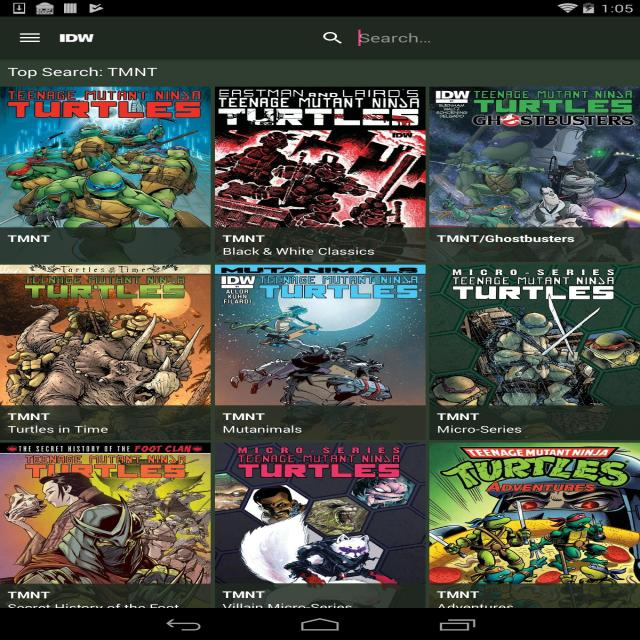button: (316, 24, 348, 51), (16, 27, 48, 48)
field: (352, 25, 605, 49)
heading: (59, 31, 99, 45)
image: (0, 264, 211, 442), (214, 86, 426, 263), (0, 85, 211, 262), (216, 264, 426, 441), (430, 264, 637, 440), (432, 87, 638, 261), (0, 442, 211, 609), (428, 443, 640, 609), (217, 443, 424, 609)
label: (358, 29, 432, 46)
text: (7, 64, 161, 80), (435, 232, 580, 246), (219, 246, 378, 258), (7, 602, 185, 610), (7, 424, 111, 435), (221, 602, 355, 610), (435, 425, 524, 436), (222, 424, 303, 436), (435, 600, 518, 610), (3, 232, 53, 245), (5, 409, 55, 422), (219, 232, 270, 244), (433, 588, 483, 600), (5, 589, 54, 600), (220, 412, 267, 422), (221, 589, 267, 599), (436, 412, 481, 422)
